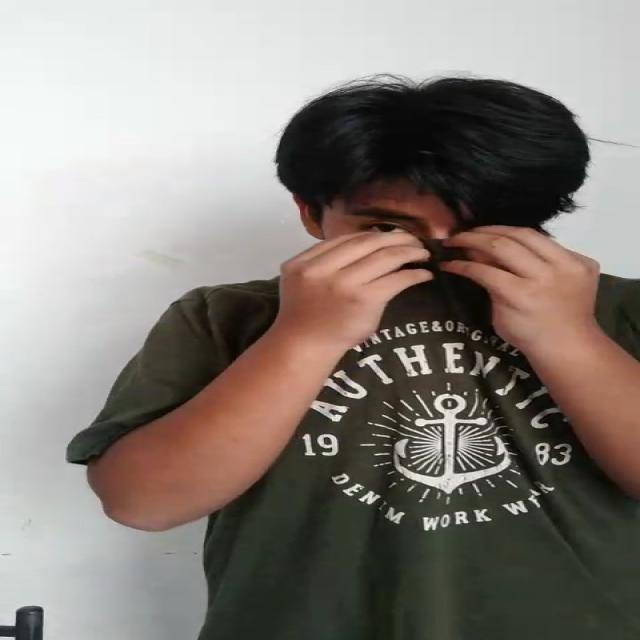8_ropa_rostro: (195, 224, 640, 335)
